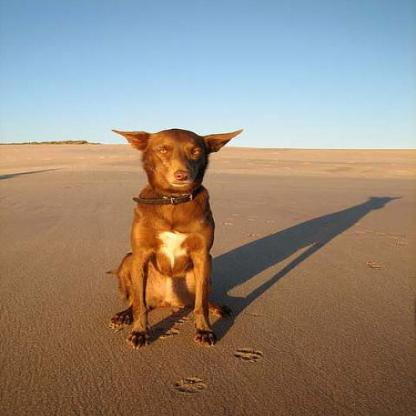kelpie: (108, 126, 243, 347)
